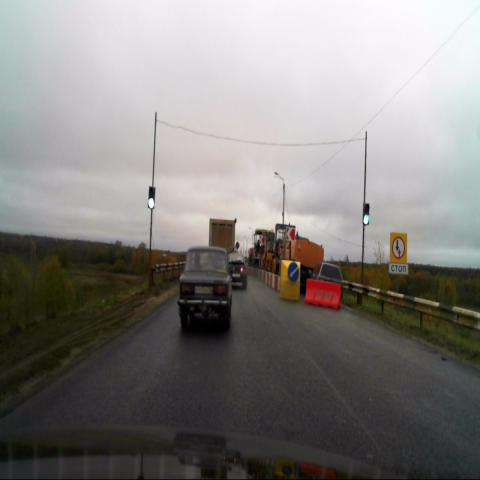2_6: (390, 233, 407, 264)
4_2_2: (287, 262, 299, 284)
